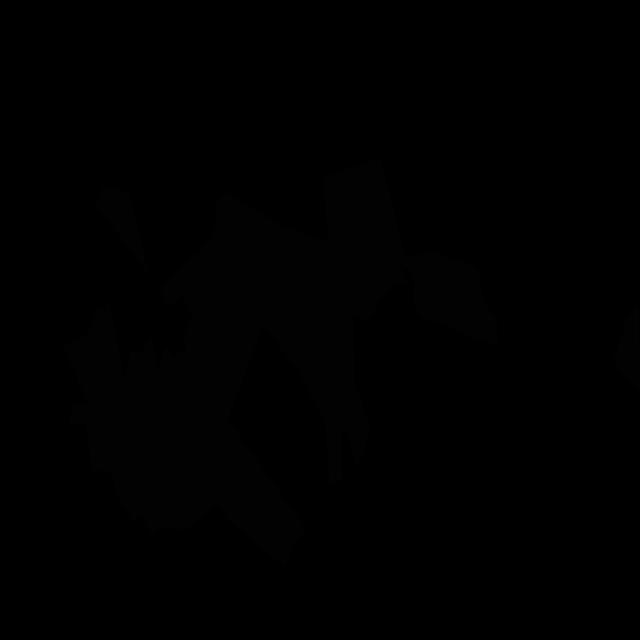cardboard: (62, 252, 342, 569), (198, 192, 370, 471), (322, 158, 408, 321), (397, 251, 498, 348), (94, 186, 149, 275), (612, 303, 640, 394)
